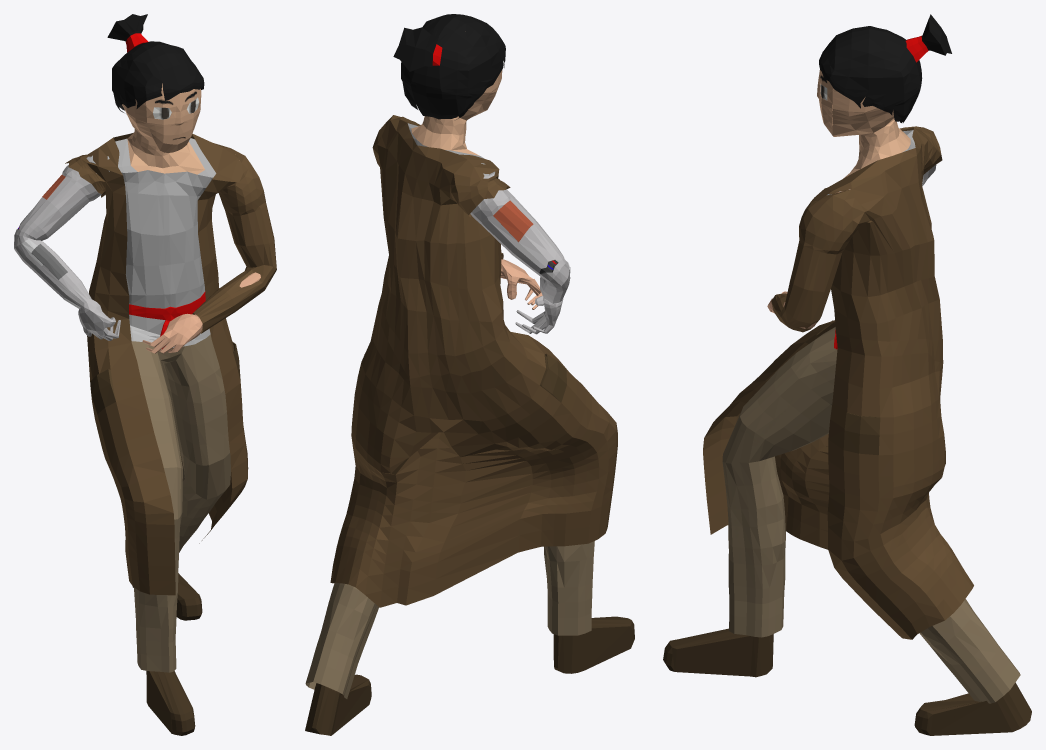
The model's file is One_Bash_000009.obj.
The picture shows the model from 3 angles, left to right: view 1: azimuth 30°, elevation 25°; view 2: azimuth 150°, elevation 25°; view 3: azimuth 270°, elevation 25°; orthographic projection. The views are drawn at different scales.
Visible parts, largest first — view 1: Hair_Cube.004; view 2: Hair_Cube.004; view 3: Hair_Cube.004.
Part boxes in pixels (bbox=[...]): Hair_Cube.004: bbox=[14, 14, 276, 735]; Hair_Cube.004: bbox=[305, 14, 634, 735]; Hair_Cube.004: bbox=[663, 14, 1031, 735].
Size of the model in its own units: 1.32 by 3.72 by 1.82.
